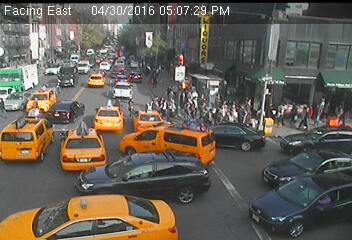neg: (290, 28, 312, 58), (31, 49, 49, 73), (151, 27, 169, 50), (3, 74, 18, 94), (266, 31, 280, 49), (67, 27, 81, 44), (109, 32, 120, 47), (218, 25, 229, 39), (8, 175, 18, 189), (133, 29, 143, 42), (11, 44, 21, 57), (31, 27, 38, 36), (7, 16, 14, 25), (182, 29, 188, 37)
pos: (315, 95, 333, 120), (273, 101, 291, 124), (296, 105, 313, 128), (124, 95, 138, 114), (337, 103, 351, 122), (149, 71, 161, 85)
